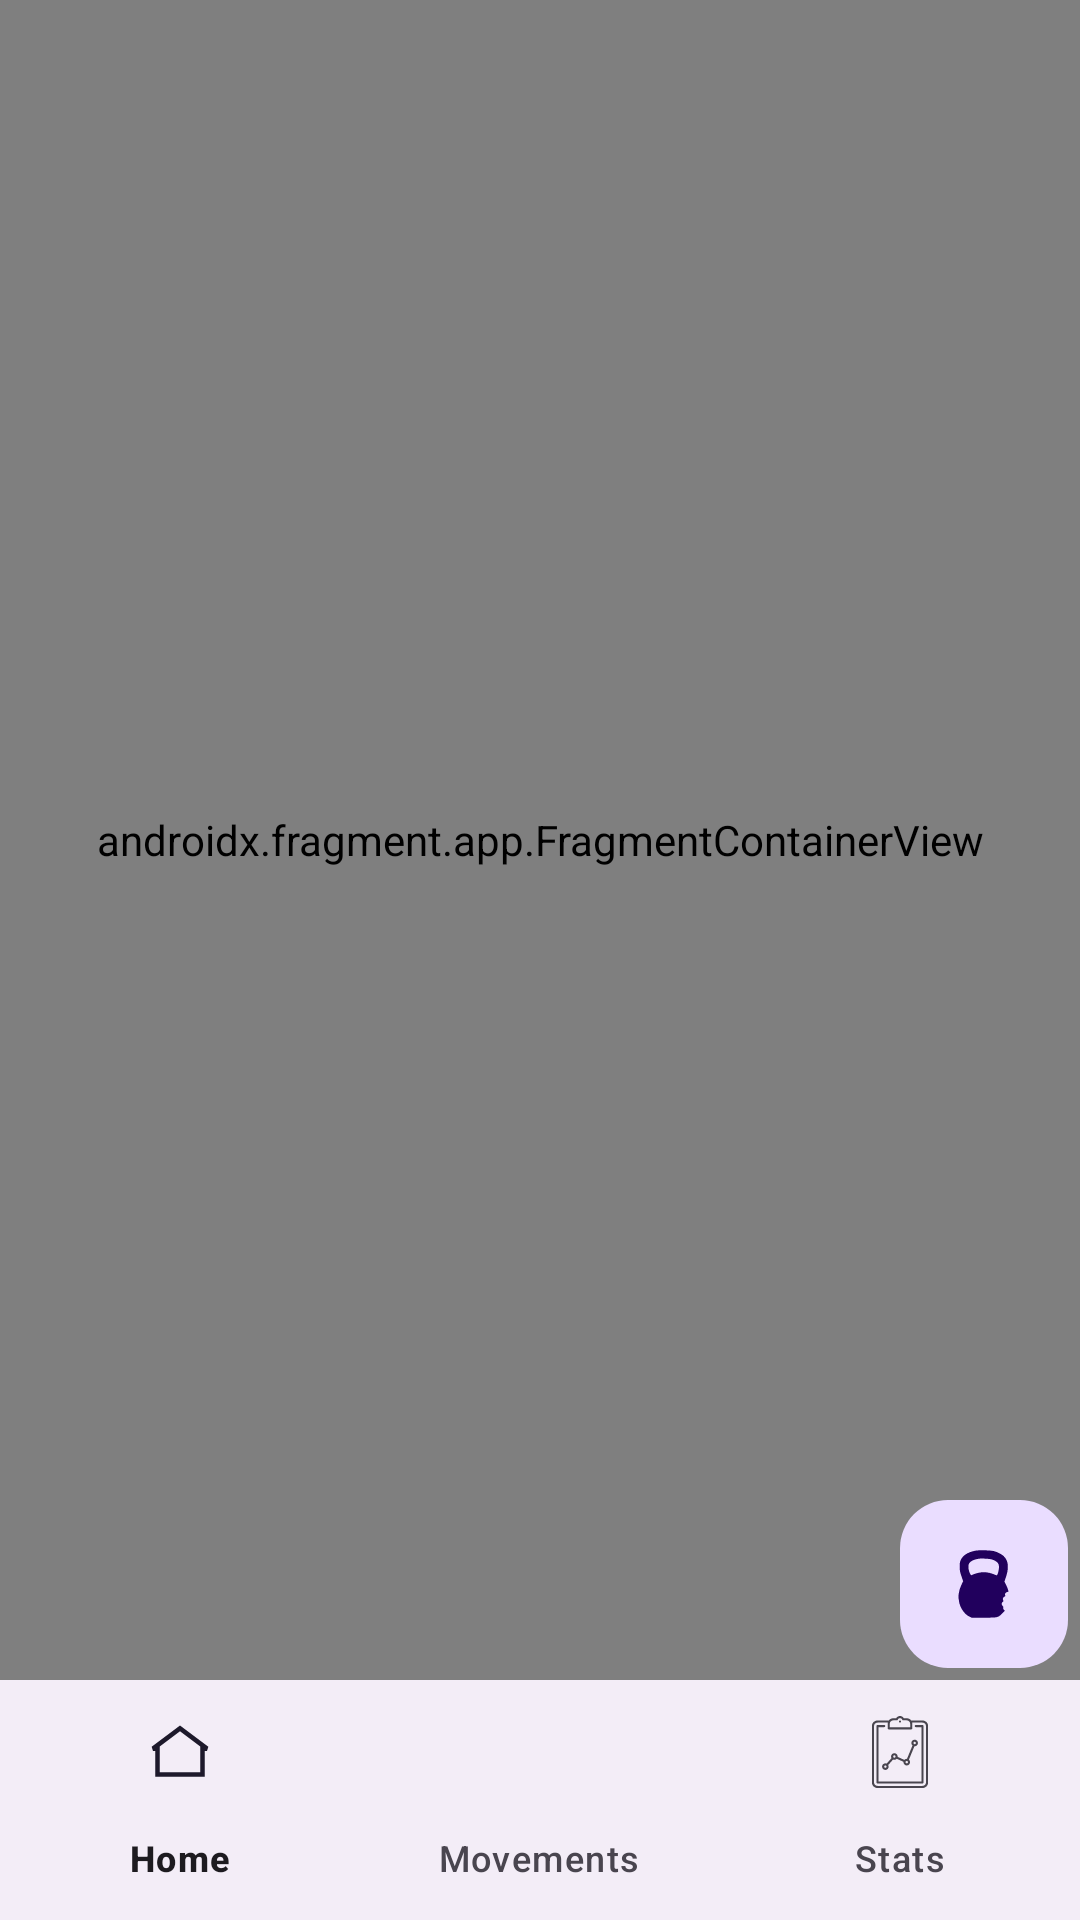

Named icons in this screenshot (1080px×1920px) and their centers, (x=x, y=y):
kettlebell: (x=984, y=1584)
